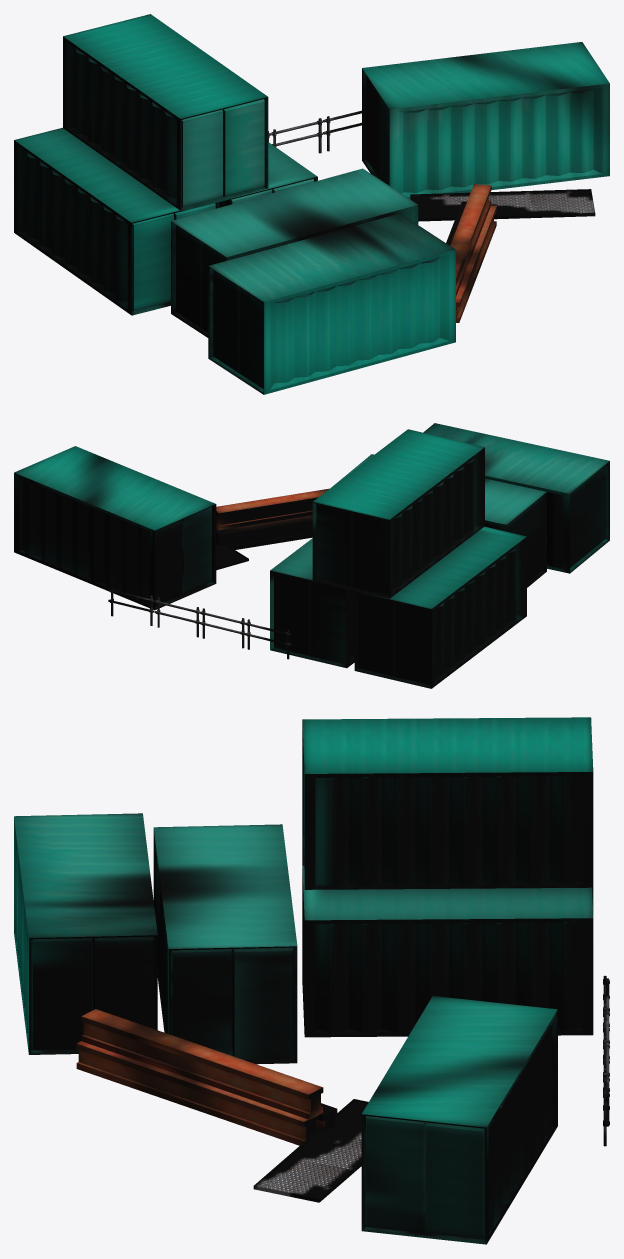
The model's file is bill2-object1.obj.
3 views of the same model, one above another, from view 1: azimuth 30°, elevation 25°; view 2: azimuth 150°, elevation 25°; view 3: azimuth 270°, elevation 25° (orthographic). The views are drawn at different scales.
Bounding box in the file's own units: 29.88 × 10.02 × 23.19.
Materials: 1 (1 with a texture image).
